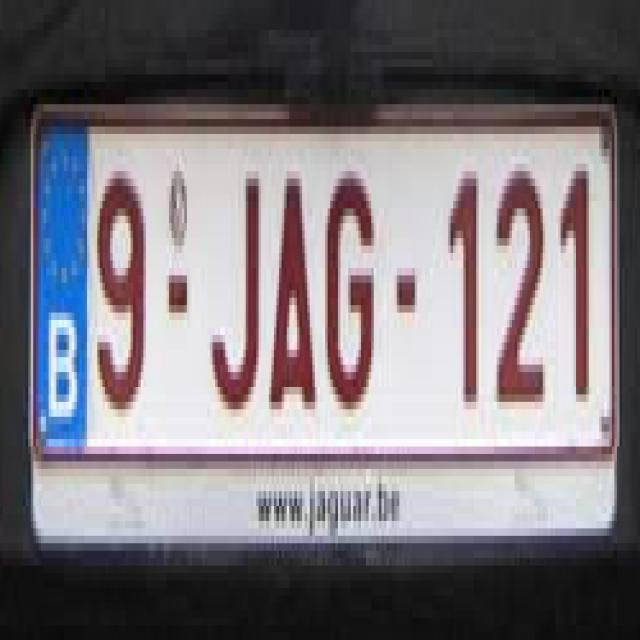Belgique: (33, 127, 91, 449)
EU: (26, 112, 618, 463)
